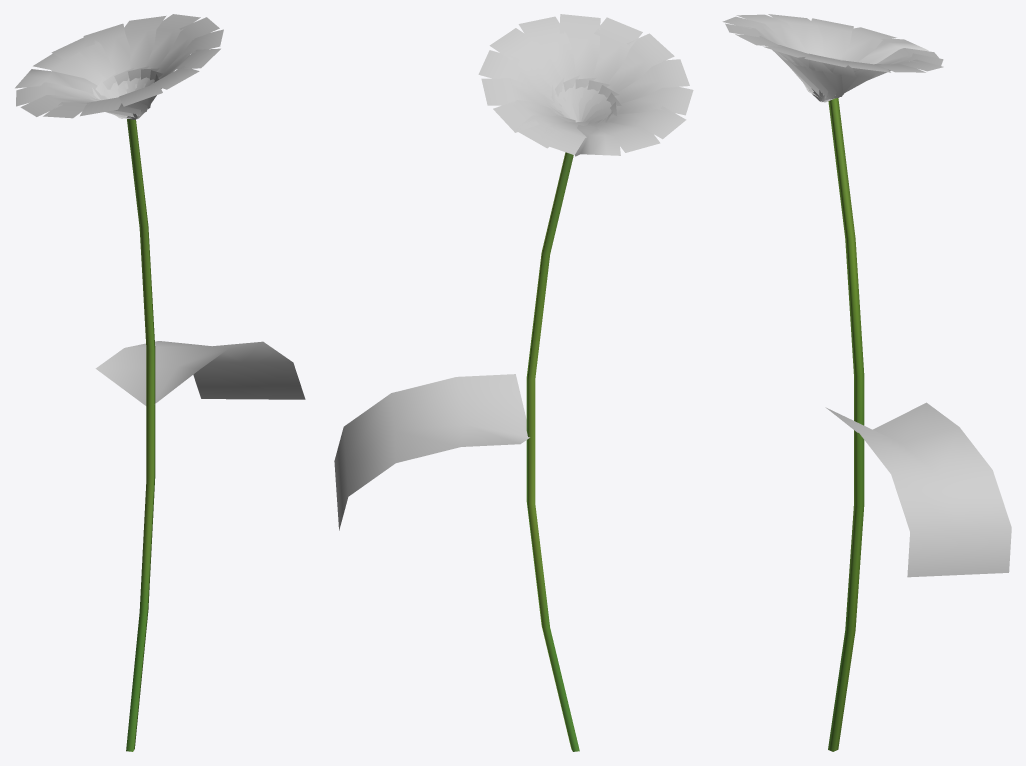
File: SM_flower_14.fbx
3 renders of one model, left to right at view 1: azimuth 30°, elevation 25°; view 2: azimuth 150°, elevation 25°; view 3: azimuth 270°, elevation 25°, orthographic. The views are drawn at different scales.
Parts seen in each view (by area): view 1: SM_flower_14; view 2: SM_flower_14; view 3: SM_flower_14.
Boxes of the visible parts, left/top/right/bottom form: SM_flower_14: left=15, top=14, right=305, bottom=751; SM_flower_14: left=334, top=14, right=693, bottom=751; SM_flower_14: left=722, top=14, right=1011, bottom=751.
Bounding box in the file's own units: 27.77 × 60.24 × 21.63.
